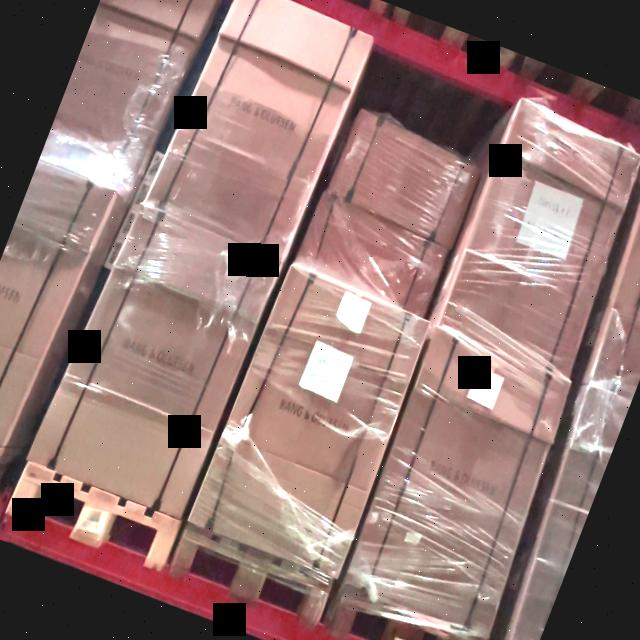box: (27, 203, 280, 519), (186, 262, 429, 583), (342, 324, 573, 640), (144, 0, 373, 265), (439, 96, 640, 375), (290, 188, 458, 322), (329, 109, 480, 248)
